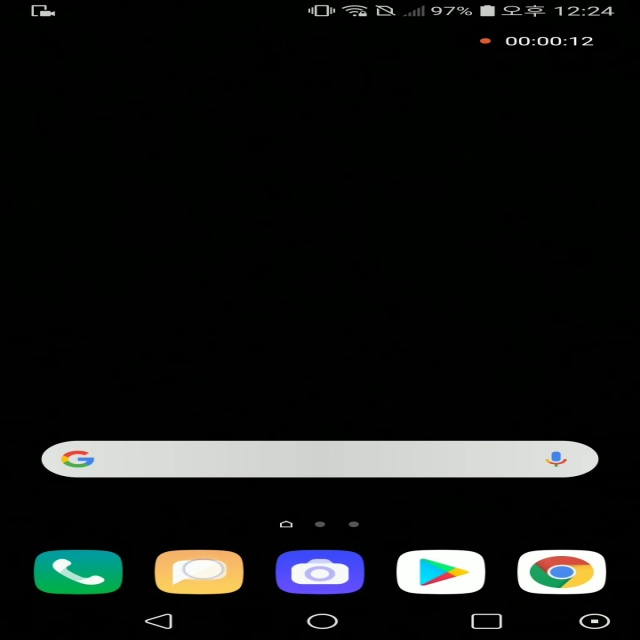Cursor: (182, 559, 226, 581)
